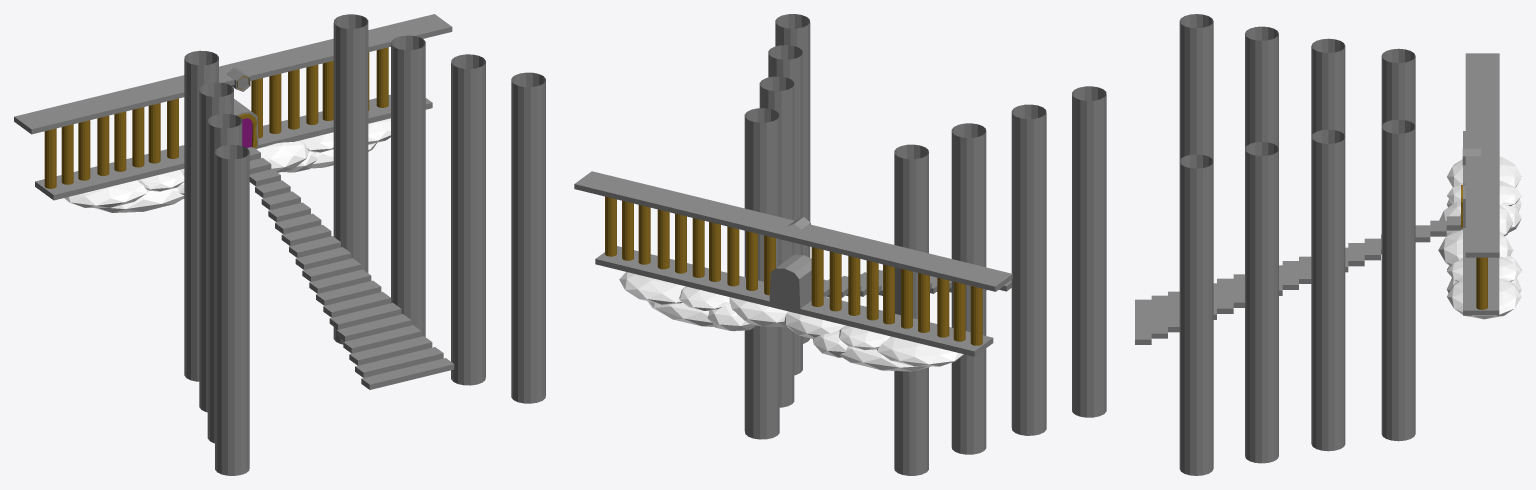
The model's file is Beyaz_Kap.fbx.
3 views of the same model, side by side, from view 1: azimuth 30°, elevation 25°; view 2: azimuth 150°, elevation 25°; view 3: azimuth 270°, elevation 25° (orthographic). The views are drawn at different scales.
Parts seen in each view (by area): view 1: Cube; view 2: Cube; view 3: Cube.
Part boxes in pixels (x1,y1,x2,y2): Cube: (14,14,545,475); Cube: (574,14,1106,475); Cube: (1135,14,1521,475).
Size of the model in its own units: 2776 by 1996 by 2276.
